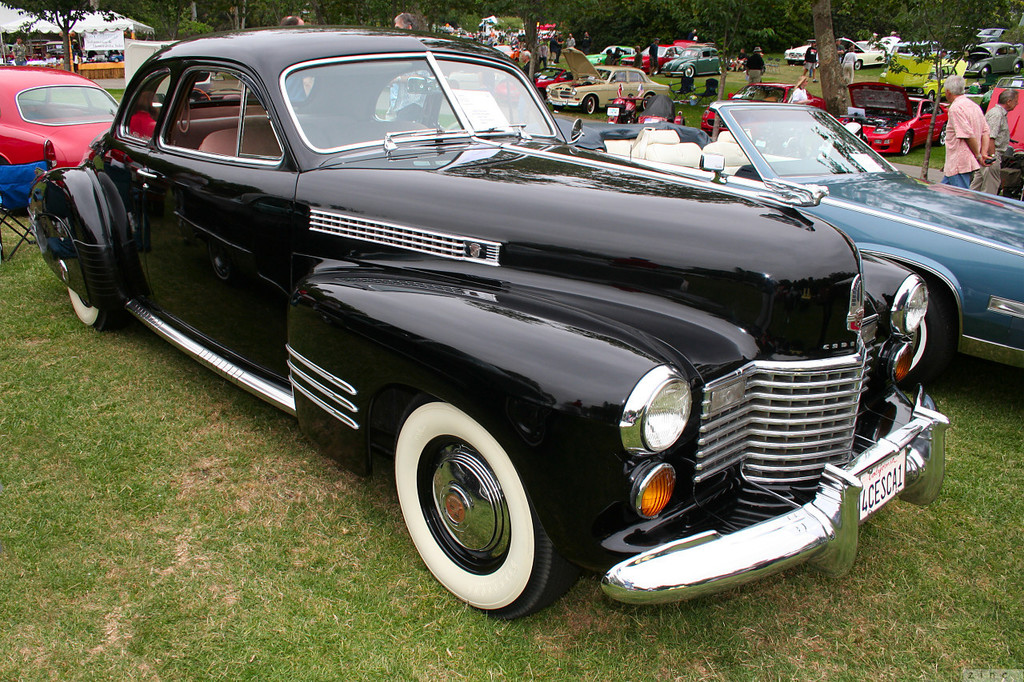Car: (0, 20, 1023, 616)
